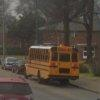Bus: (24, 41, 82, 86)
